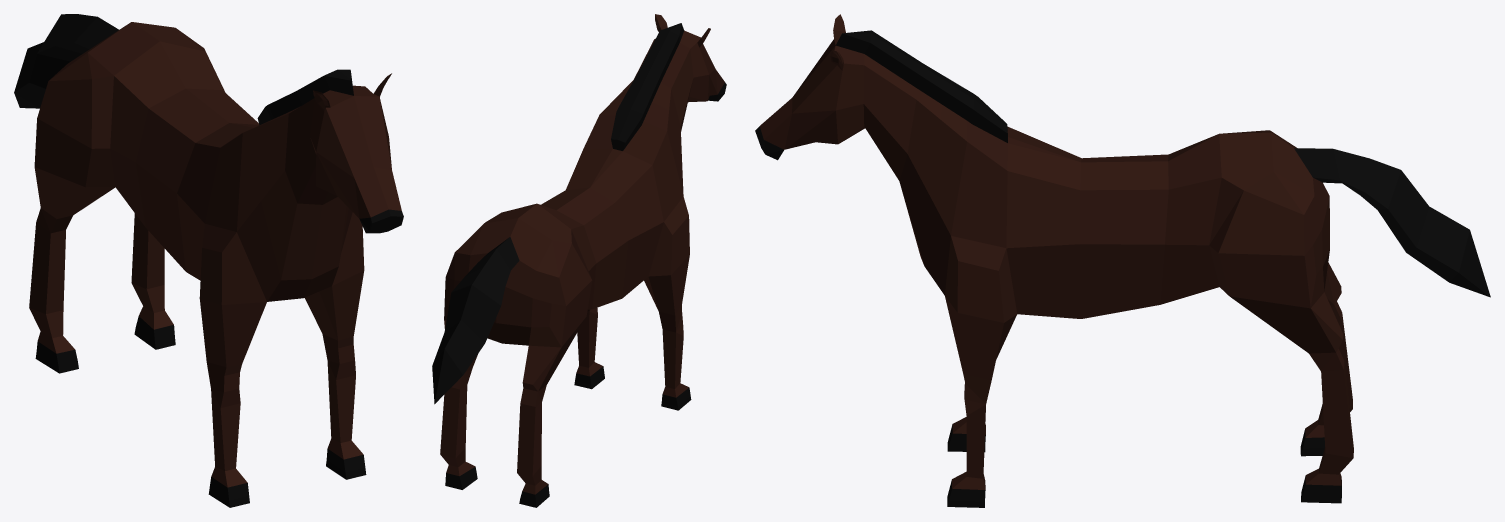
File: Horse_000035.obj
The picture shows the model from 3 angles, left to right: view 1: azimuth 30°, elevation 25°; view 2: azimuth 150°, elevation 25°; view 3: azimuth 270°, elevation 25°; orthographic projection. The views are drawn at different scales.
Visible parts, largest first — view 1: Horse_Cylinder; view 2: Horse_Cylinder; view 3: Horse_Cylinder.
Part boxes in pixels (x1=…): Horse_Cylinder: x1=14, y1=14, x2=403, y2=507; Horse_Cylinder: x1=432, y1=14, x2=726, y2=507; Horse_Cylinder: x1=755, y1=14, x2=1490, y2=507.
Bounding box in the file's own units: 2.56 × 6.89 × 10.41.
